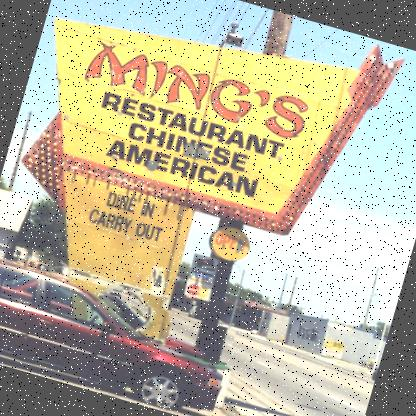Car: (0, 256, 238, 415), (0, 261, 199, 356), (369, 365, 379, 381), (188, 306, 196, 318), (250, 328, 256, 334)
